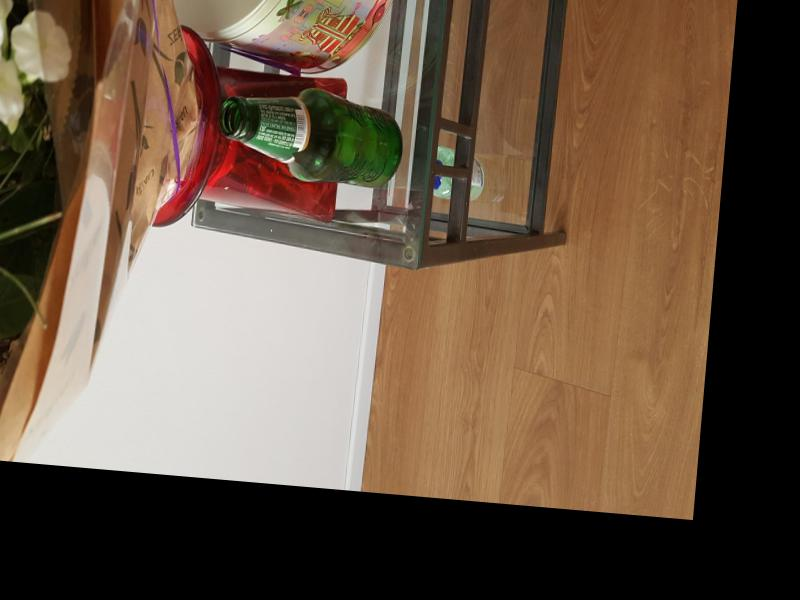Beer: (216, 80, 408, 191)
